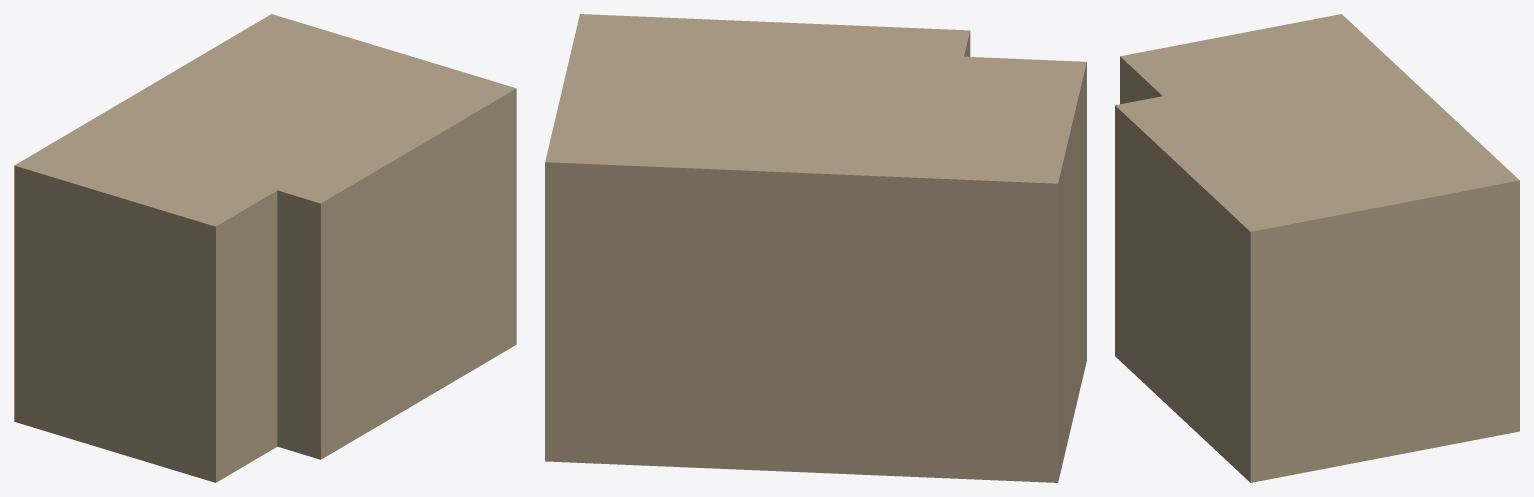
Rendered from bld_106306835.dae.
The picture shows the model from 3 angles, left to right: view 1: azimuth 30°, elevation 25°; view 2: azimuth 150°, elevation 25°; view 3: azimuth 270°, elevation 25°; orthographic projection. The views are drawn at different scales.
Visible parts, largest first — view 1: bld_106306835; view 2: bld_106306835; view 3: bld_106306835.
Part boxes in pixels (x1=…): bld_106306835: x1=14, y1=14, x2=516, y2=482; bld_106306835: x1=545, y1=14, x2=1086, y2=482; bld_106306835: x1=1115, y1=14, x2=1519, y2=482.
Bounding box in the file's own units: 14.9 × 11.69 × 8.
